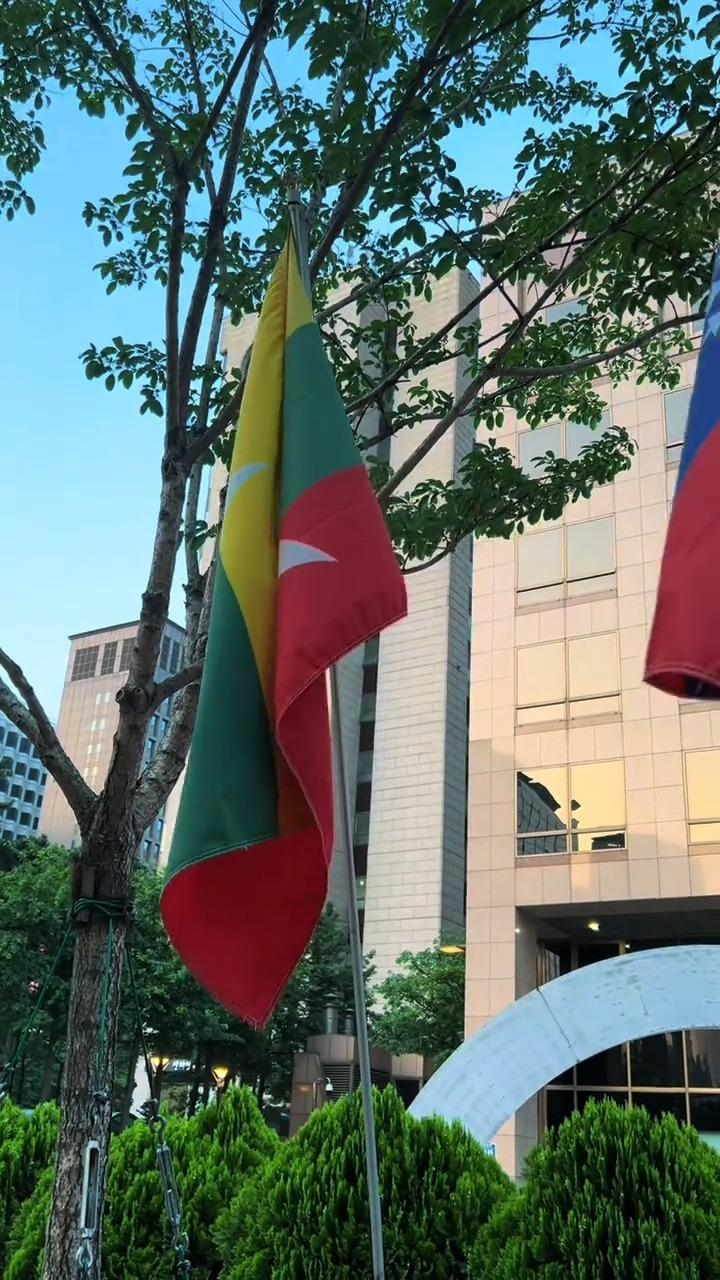Myanmar: (154, 232, 412, 1032)
